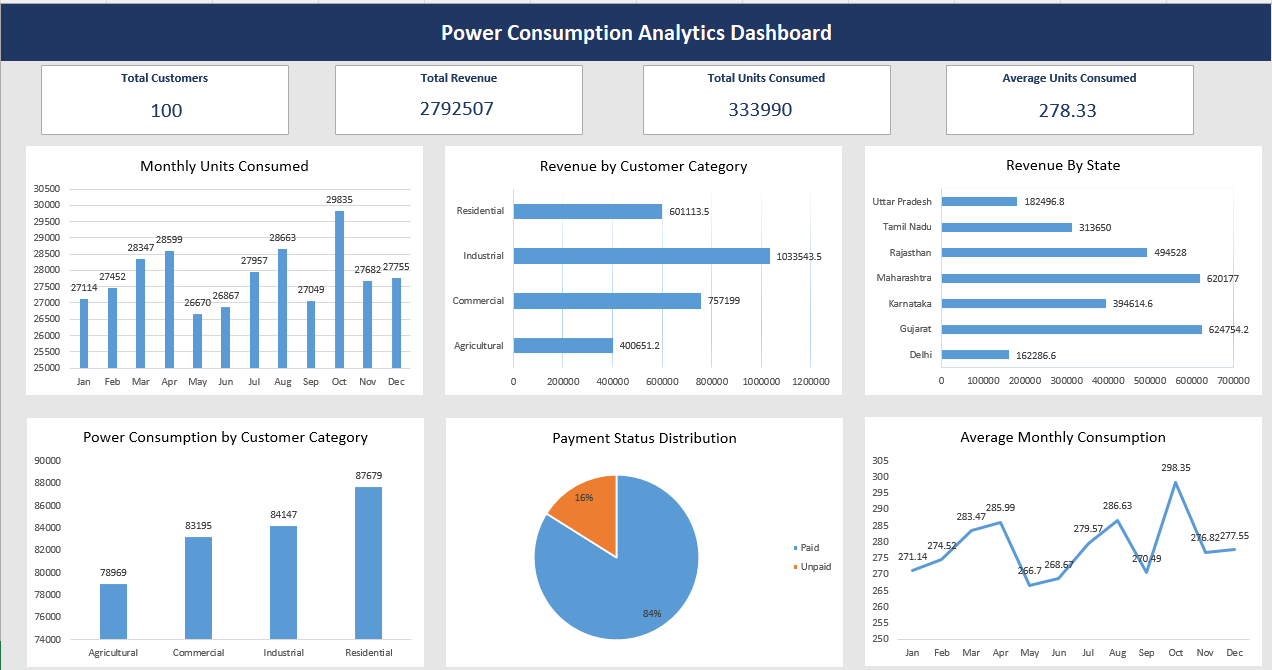

This screenshot's page, from the dashboard's own definition file:
{"tool":"powerbi","page":{"name":"Page 1","canvas":[1280,720],"ordinal":0},"visuals":[{"type":"cardVisual","fields":{"Data":["Measures (2).Total Revenue"]},"box":[0,52.1,304.6,146.8],"z":0},{"type":"cardVisual","fields":{"Data":["Measures (2).Total Customers"]},"box":[588.2,53.5,304.6,145.5],"z":1000},{"type":"cardVisual","fields":{"Data":["Measures (2).Total Units Consumed"]},"box":[294.1,53.5,304.6,145.5],"z":2000},{"type":"cardVisual","fields":{"Data":["Measures (2).Average Units Consumed"]},"box":[882.3,53.5,304.6,145.5],"z":3000},{"type":"clusteredBarChart","title":"Revenue by State","fields":{"Category":["vw_DashboardData.StateName"],"Y":["Sum(vw_DashboardData.BillAmount)"]},"box":[0,214.1,609.3,259.3],"z":4000},{"type":"donutChart","title":"Revenue by Payment Status","fields":{"Category":["vw_DashboardData.PaymentStatus"],"Y":["Sum(vw_DashboardData.BillAmount)"]},"box":[627.1,214.1,559.9,274.4],"z":5000},{"type":"lineChart","title":"Monthly Revenue Trend","fields":{"Category":["vw_DashboardData.ReadingDate.Variation.Date Hierarchy.Month"],"Y":["Sum(vw_DashboardData.BillAmount)"]},"box":[1.4,499.5,587.3,209.9],"z":6000},{"type":"slicer","title":"State Name","fields":{"Values":["vw_DashboardData.StateName"]},"box":[1132.1,216.8,130.4,64.5],"z":7000},{"type":"slicer","fields":{"Values":["vw_DashboardData.PaymentStatus"]},"box":[1132.1,282.7,130.4,68.6],"z":8000},{"type":"slicer","fields":{"Values":["vw_DashboardData.CategoryName"]},"box":[1132.1,351.3,130.4,75.5],"z":9000},{"type":"slicer","fields":{"Values":["vw_DashboardData.ReadingDate.Variation.Date Hierarchy.Month"]},"box":[1132.1,426.8,130.4,68.6],"z":10000},{"type":"textbox","box":[1132.1,179.8,130.4,37],"z":11000},{"type":"textbox","box":[1112.9,550.3,167.4,170.2],"z":12000},{"type":"clusteredColumnChart","title":"Revenue by Customer Category","fields":{"Category":["vw_DashboardData.CategoryName"],"Y":["Sum(vw_DashboardData.BillAmount)"]},"box":[627,499,486,210],"z":13000},{"type":"cardVisual","fields":{"Data":["Measures (2).DashboardData"]},"box":[279.9,0,780.8,79.6],"z":14000}]}

Visuals, with their boxes on the page's 1280x720 design canvas (x1, y1, x2, y2). These are canvas units, not pixel positions in the 1272x670 screenshot, which may show the page scaled, cropped or inside an application window:
cardVisual - Measures (2).Total Revenue: (x1=0, y1=52, x2=305, y2=199)
cardVisual - Measures (2).Total Customers: (x1=588, y1=54, x2=893, y2=199)
cardVisual - Measures (2).Total Units Consumed: (x1=294, y1=54, x2=599, y2=199)
cardVisual - Measures (2).Average Units Consumed: (x1=882, y1=54, x2=1187, y2=199)
"Revenue by State" clusteredBarChart: (x1=0, y1=214, x2=609, y2=473)
"Revenue by Payment Status" donutChart: (x1=627, y1=214, x2=1187, y2=488)
"Monthly Revenue Trend" lineChart: (x1=1, y1=500, x2=589, y2=709)
"State Name" slicer: (x1=1132, y1=217, x2=1262, y2=281)
slicer - vw_DashboardData.PaymentStatus: (x1=1132, y1=283, x2=1262, y2=351)
slicer - vw_DashboardData.CategoryName: (x1=1132, y1=351, x2=1262, y2=427)
slicer - vw_DashboardData.ReadingDate.Variation.Date Hierarchy.Month: (x1=1132, y1=427, x2=1262, y2=495)
textbox: (x1=1132, y1=180, x2=1262, y2=217)
textbox: (x1=1113, y1=550, x2=1280, y2=720)
"Revenue by Customer Category" clusteredColumnChart: (x1=627, y1=499, x2=1113, y2=709)
cardVisual - Measures (2).DashboardData: (x1=280, y1=0, x2=1061, y2=80)
